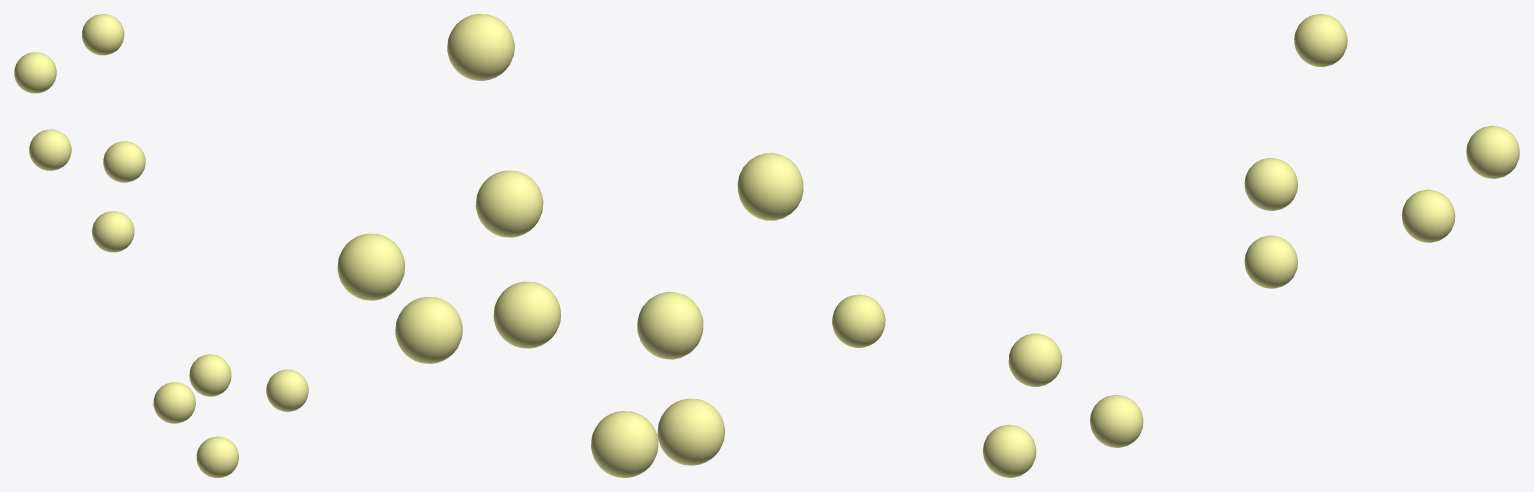
Rendered from Virgo.glb.
The picture shows the model from 3 angles, left to right: view 1: azimuth 30°, elevation 25°; view 2: azimuth 150°, elevation 25°; view 3: azimuth 270°, elevation 25°; orthographic projection. The views are drawn at different scales.
Parts seen in each view (by area): view 1: instance_8, instance_5, instance_2, instance_4, instance_7, instance_6, instance_1, instance_0, instance_3; view 2: instance_1, instance_7, instance_0, instance_3, instance_2, instance_6, instance_4, instance_5, instance_8; view 3: instance_5, instance_8, instance_7, instance_1, instance_3, instance_6, instance_4, instance_0, instance_2.
Boxes of the visible parts, <box> form: instance_8: <box>266,369,308,411</box>; instance_5: <box>189,354,231,396</box>; instance_2: <box>103,141,145,182</box>; instance_4: <box>153,382,195,423</box>; instance_7: <box>14,52,56,93</box>; instance_6: <box>29,129,71,170</box>; instance_1: <box>92,211,134,252</box>; instance_0: <box>196,436,238,477</box>; instance_3: <box>82,14,124,55</box>; instance_1: <box>493,281,560,348</box>; instance_7: <box>337,233,404,300</box>; instance_0: <box>657,398,724,465</box>; instance_3: <box>447,14,514,80</box>; instance_2: <box>475,170,543,237</box>; instance_6: <box>395,297,462,363</box>; instance_4: <box>591,411,658,477</box>; instance_5: <box>637,292,703,359</box>; instance_8: <box>737,153,803,220</box>; instance_5: <box>1008,333,1062,386</box>; instance_8: <box>832,294,885,347</box>; instance_7: <box>1466,125,1519,178</box>; instance_1: <box>1244,235,1297,288</box>; instance_3: <box>1294,14,1347,67</box>; instance_6: <box>1401,189,1455,242</box>; instance_4: <box>1090,394,1143,447</box>; instance_0: <box>983,424,1036,477</box>; instance_2: <box>1244,158,1297,210</box>.
Bounding box in the file's own units: 0.0909 × 0.6588 × 0.8844.
